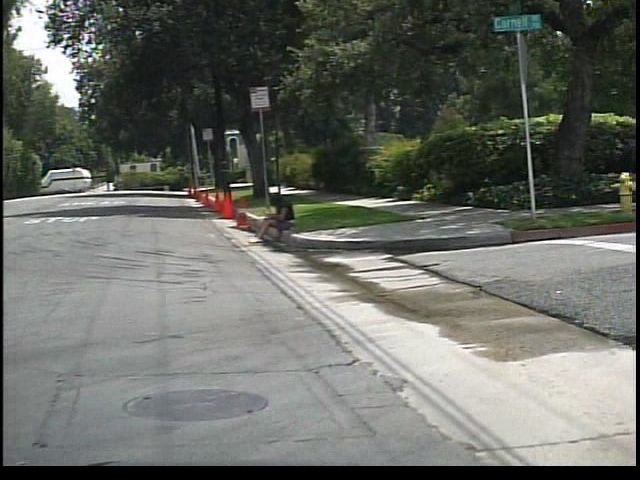person: (251, 191, 307, 246)
